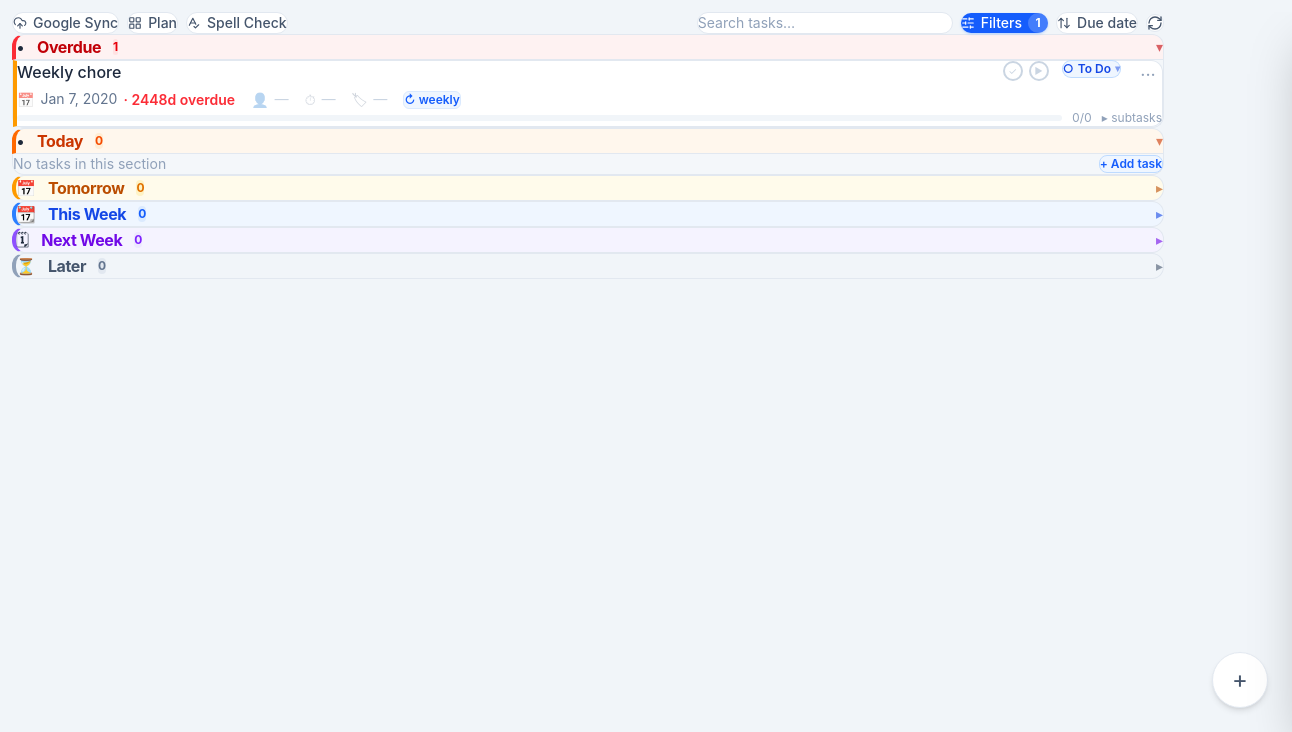
Test: TaskList — UI states › shows "No tasks match" when filters exclude all tasks
Check: the text "Weekly chore" is shown, box [17, 61, 121, 83]
Click the button "Filters 1" at coordinates (1004, 23), box [961, 13, 1048, 33]
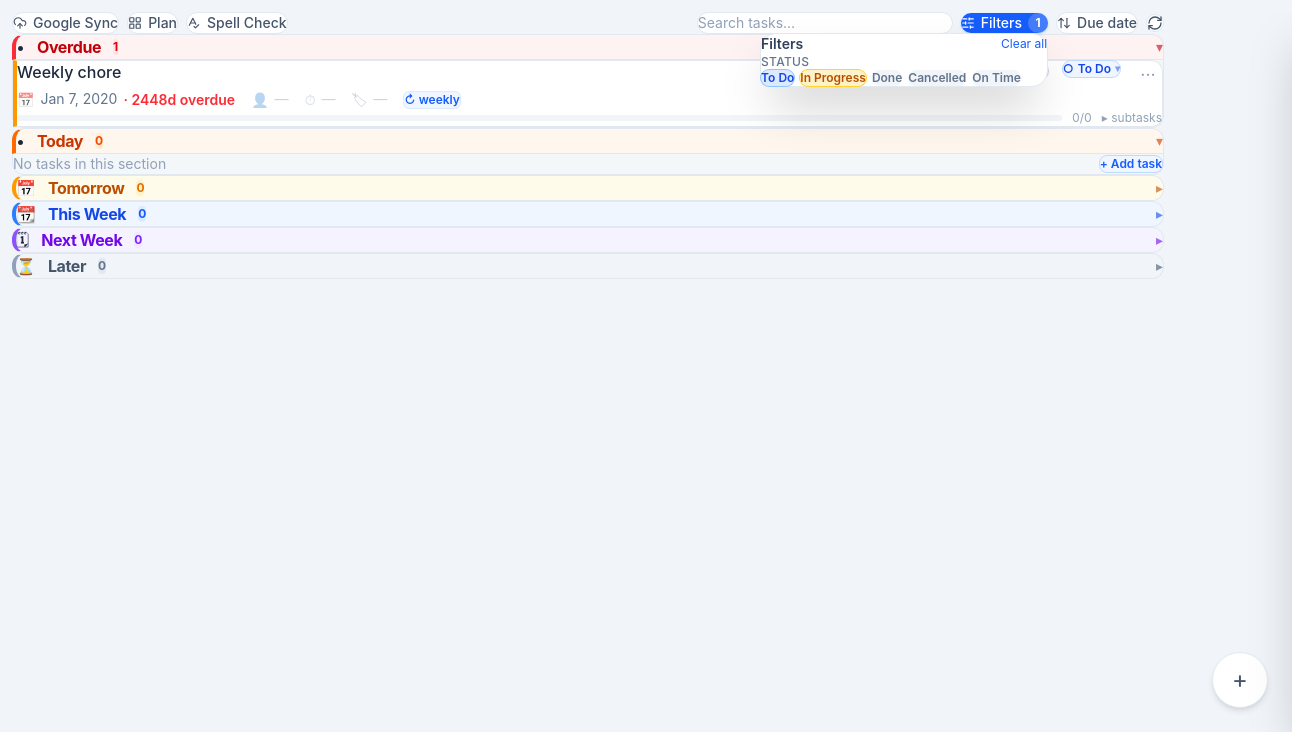
Click the button "To Do" at coordinates (778, 78), box [761, 70, 794, 86]
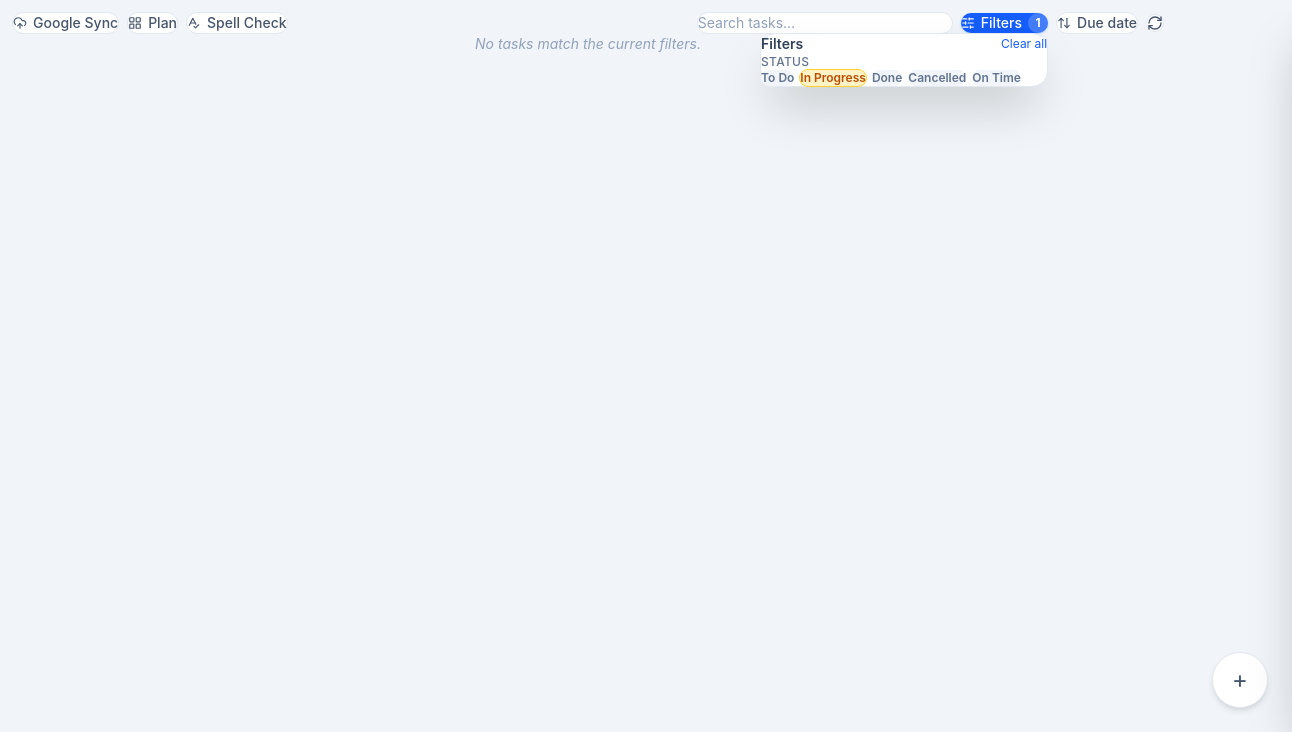
Click the button "In Progress" at coordinates (833, 78), box [800, 70, 866, 86]
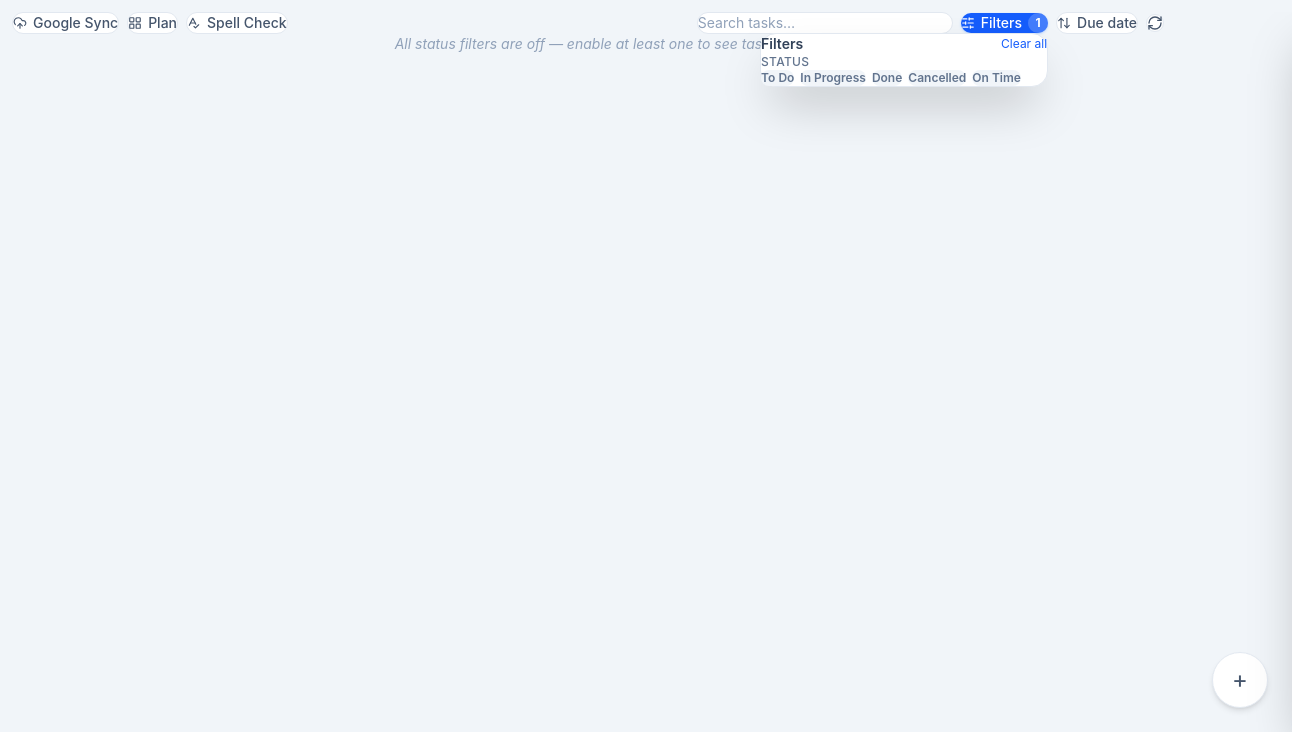
Click the button "Done" at coordinates (887, 78), box [872, 70, 902, 86]
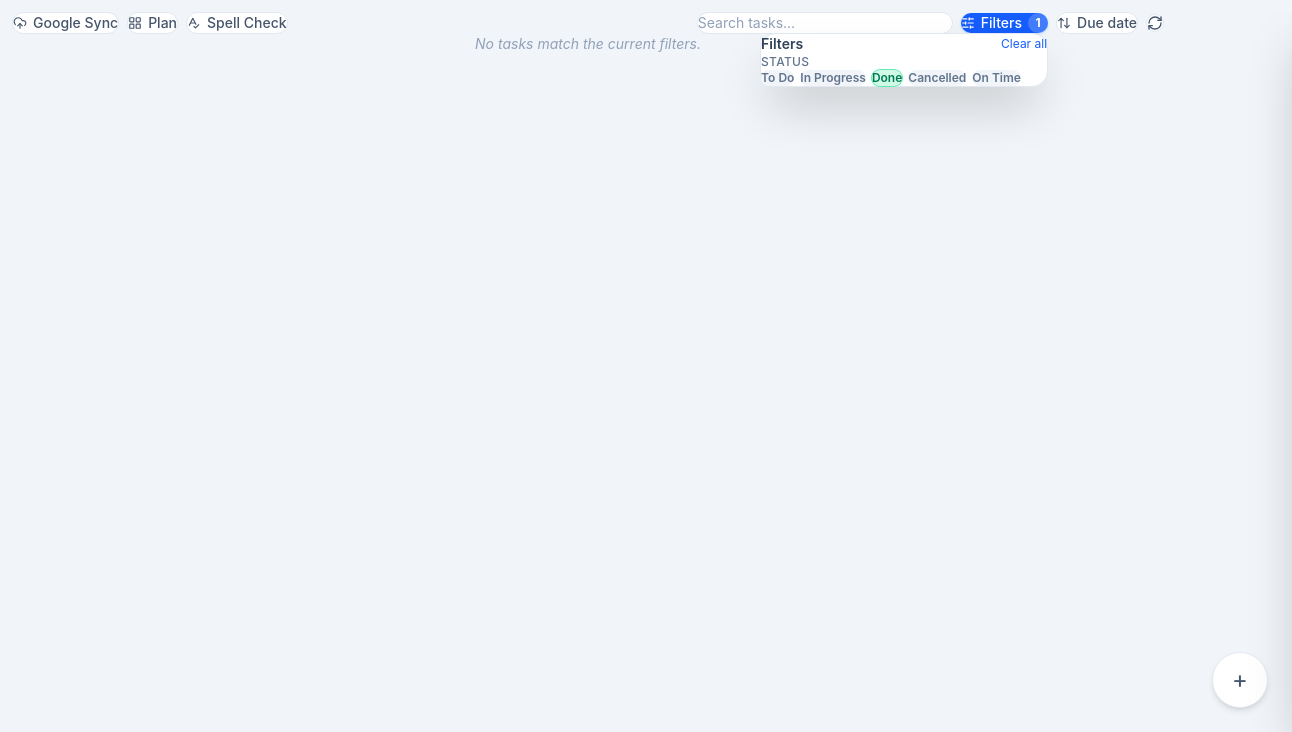
Check: the text "No tasks match the current filters." is shown, box [475, 35, 701, 52]
